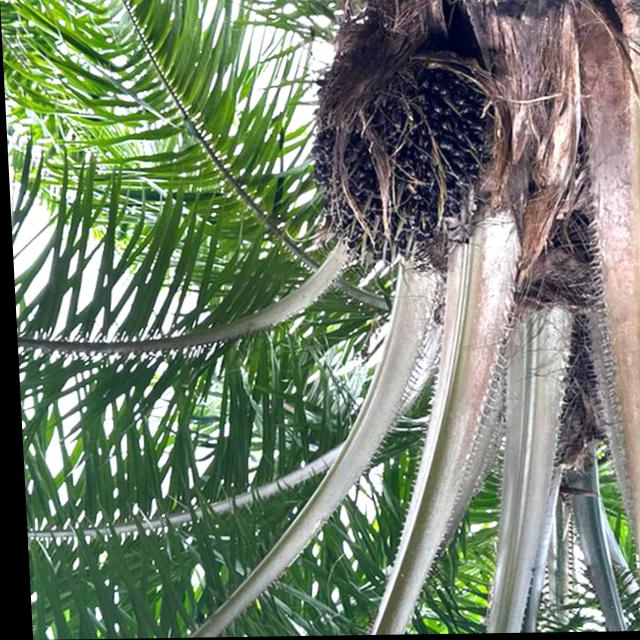unripe: (301, 42, 504, 272)
